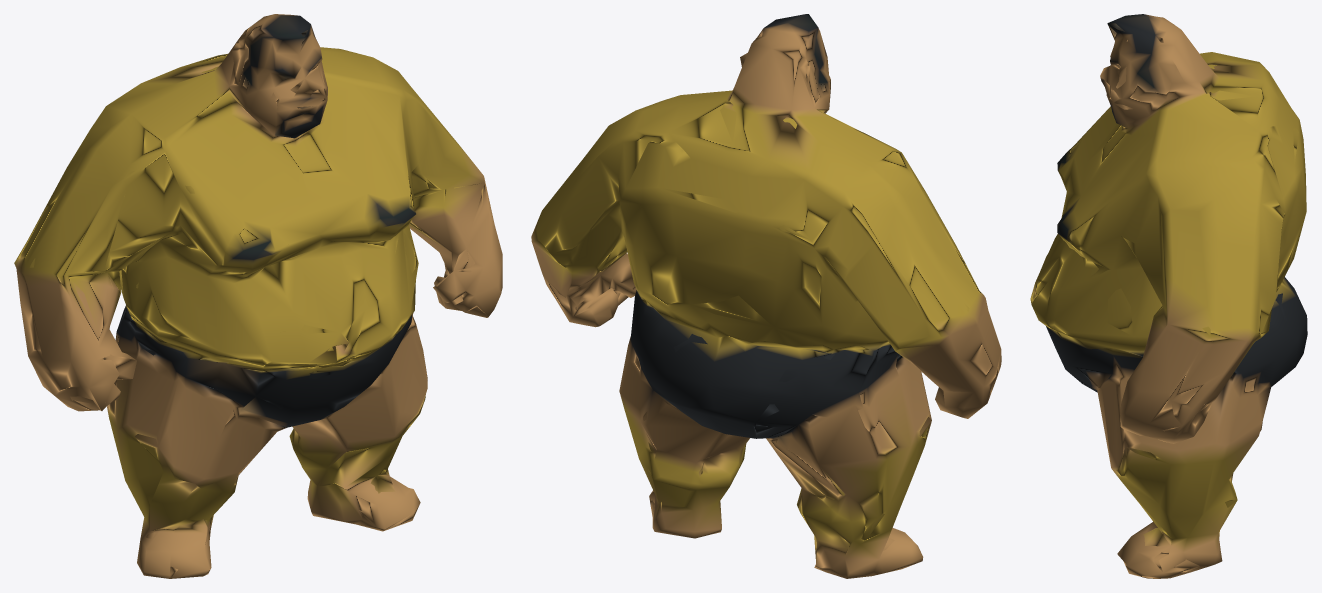
File: gen3d-sumo-lod0.glb
3 renders of one model, left to right at view 1: azimuth 30°, elevation 25°; view 2: azimuth 150°, elevation 25°; view 3: azimuth 270°, elevation 25°, orthographic. The views are drawn at different scales.
Visible parts, largest first — view 1: part_0; view 2: part_0; view 3: part_0.
Boxes of the visible parts, <box> form: part_0: <box>14,14,502,578</box>; part_0: <box>531,14,1001,578</box>; part_0: <box>1030,14,1307,578</box>.
Bounding box in the file's own units: 0.9045 × 0.9981 × 0.5004.
